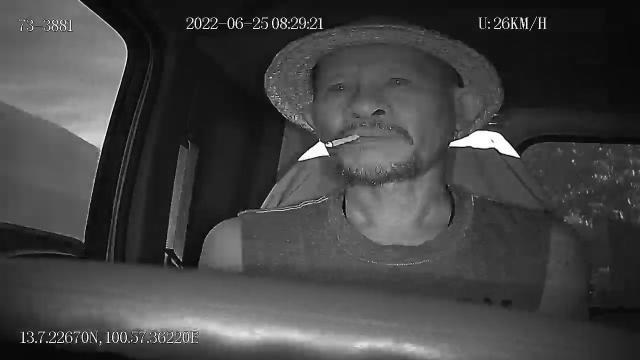SafeDriving: (381, 66, 417, 93), (324, 74, 359, 100)
Smoking: (325, 133, 361, 149)
